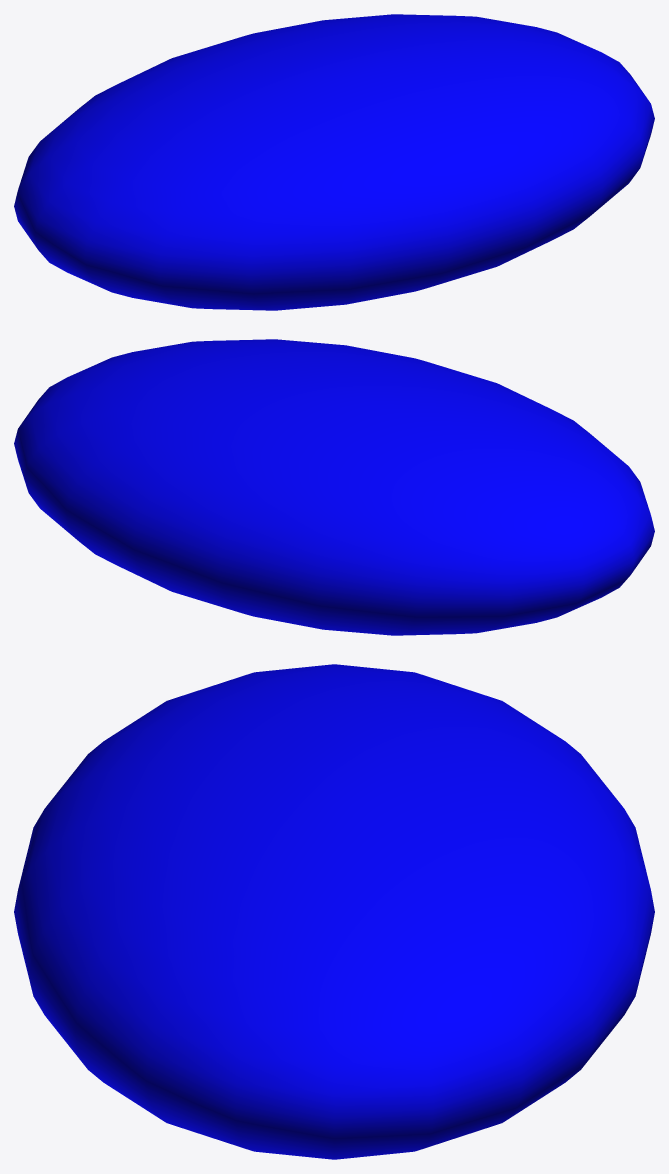
The model's file is Shield.fbx.
3 renders of one model, top to bottom at view 1: azimuth 30°, elevation 25°; view 2: azimuth 150°, elevation 25°; view 3: azimuth 270°, elevation 25°, orthographic. The views are drawn at different scales.
Parts seen in each view (by area): view 1: pSphere1; view 2: pSphere1; view 3: pSphere1.
Part boxes in pixels (x1=…): pSphere1: x1=14, y1=14, x2=654, y2=310; pSphere1: x1=14, y1=339, x2=654, y2=635; pSphere1: x1=14, y1=664, x2=654, y2=1159.
Bounding box in the file's own units: 5.68 × 1.79 × 3.74.
